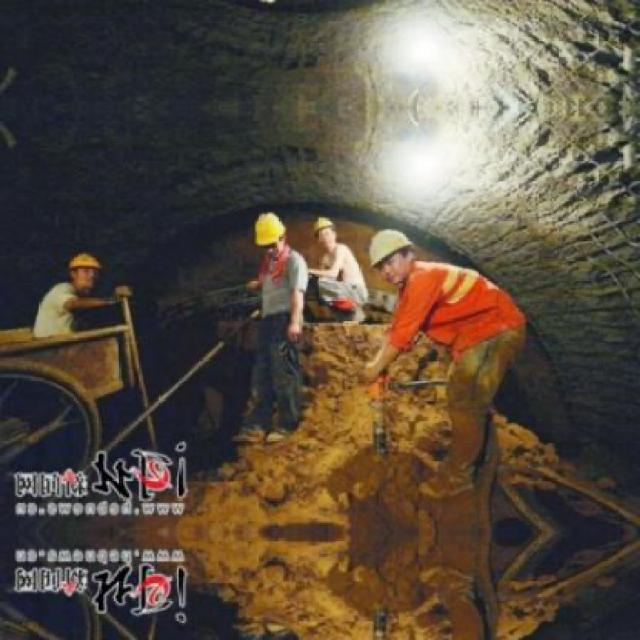2: (337, 229, 531, 491), (235, 211, 311, 443), (335, 571, 531, 638), (25, 254, 132, 338), (308, 209, 366, 323)
helmet: (366, 223, 420, 285), (250, 205, 288, 257), (64, 249, 104, 291), (312, 212, 337, 248)
